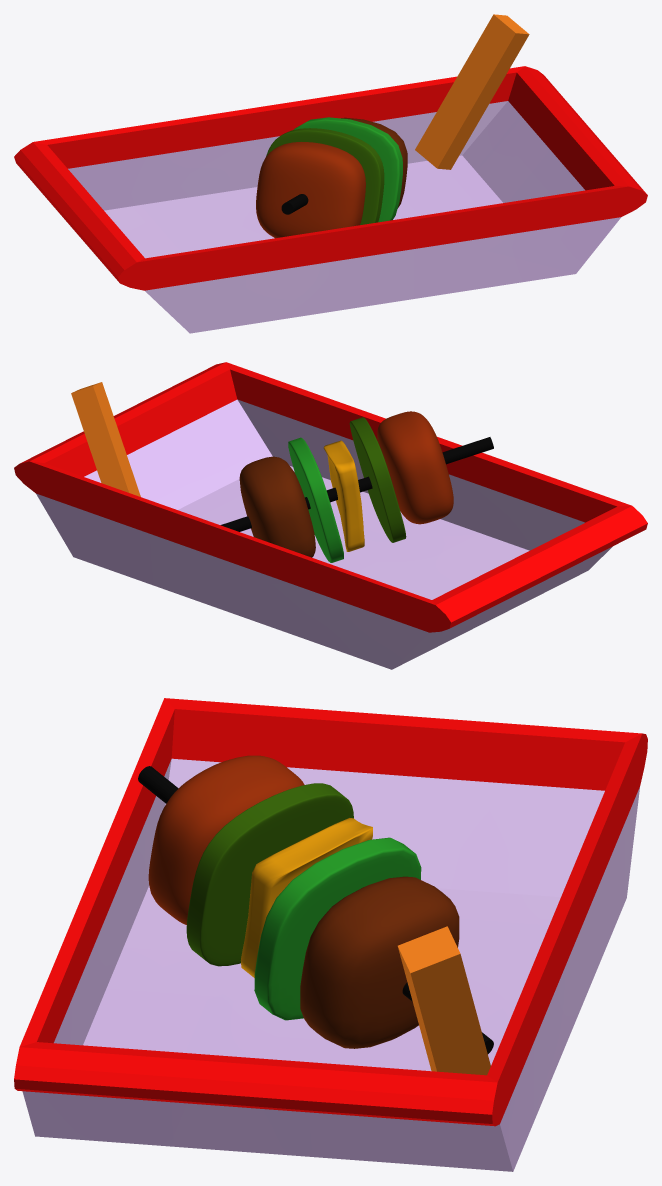
File: Fries tray.fbx
The picture shows the model from 3 angles, top to bottom: view 1: azimuth 30°, elevation 25°; view 2: azimuth 150°, elevation 25°; view 3: azimuth 270°, elevation 25°; orthographic projection. The views are drawn at different scales.
Parts seen in each view (by area): view 1: Fries Tray Lower, Fries Tray Upper, Meat, Fry, Cabbage 2, Cabbage 1, Meat.001; view 2: Fries Tray Lower, Fries Tray Upper, Meat, Meat.001, Fry, Cabbage 2, Cabbage 1, Cheese, Stick; view 3: Fries Tray Lower, Fries Tray Upper, Meat.001, Cabbage 2, Cabbage 1, Meat, Fry, Cheese, Stick.
Part boxes in pixels (left/top/right/bottom): Fries Tray Lower: left=68, top=101, right=621, bottom=333; Fries Tray Upper: left=14, top=66, right=647, bottom=290; Meat: left=256, top=142, right=365, bottom=238; Fry: left=415, top=14, right=529, bottom=169; Cabbage 2: left=266, top=128, right=384, bottom=224; Cabbage 1: left=294, top=117, right=402, bottom=222; Meat.001: left=341, top=117, right=407, bottom=208; Fries Tray Lower: left=36, top=399, right=612, bottom=669; Fries Tray Upper: left=14, top=362, right=647, bottom=632; Meat: left=377, top=411, right=453, bottom=524; Meat.001: left=239, top=456, right=315, bottom=557; Fry: left=71, top=382, right=140, bottom=496; Cabbage 2: left=349, top=417, right=406, bottom=542; Cabbage 1: left=288, top=437, right=343, bottom=562; Cheese: left=323, top=440, right=364, bottom=551; Stick: left=220, top=437, right=493, bottom=531; Fries Tray Lower: left=22, top=758, right=639, bottom=1171; Fries Tray Upper: left=14, top=698, right=647, bottom=1126; Meat.001: left=300, top=876, right=459, bottom=1048; Cabbage 2: left=186, top=783, right=353, bottom=966; Cabbage 1: left=254, top=837, right=421, bottom=1020; Meat: left=148, top=755, right=304, bottom=924; Fry: left=397, top=926, right=490, bottom=1075; Cheese: left=240, top=818, right=372, bottom=977; Stick: left=138, top=766, right=493, bottom=1053.
Size of the model in its own units: 1915 by 535 by 1248.
4 materials, 1 textured.
